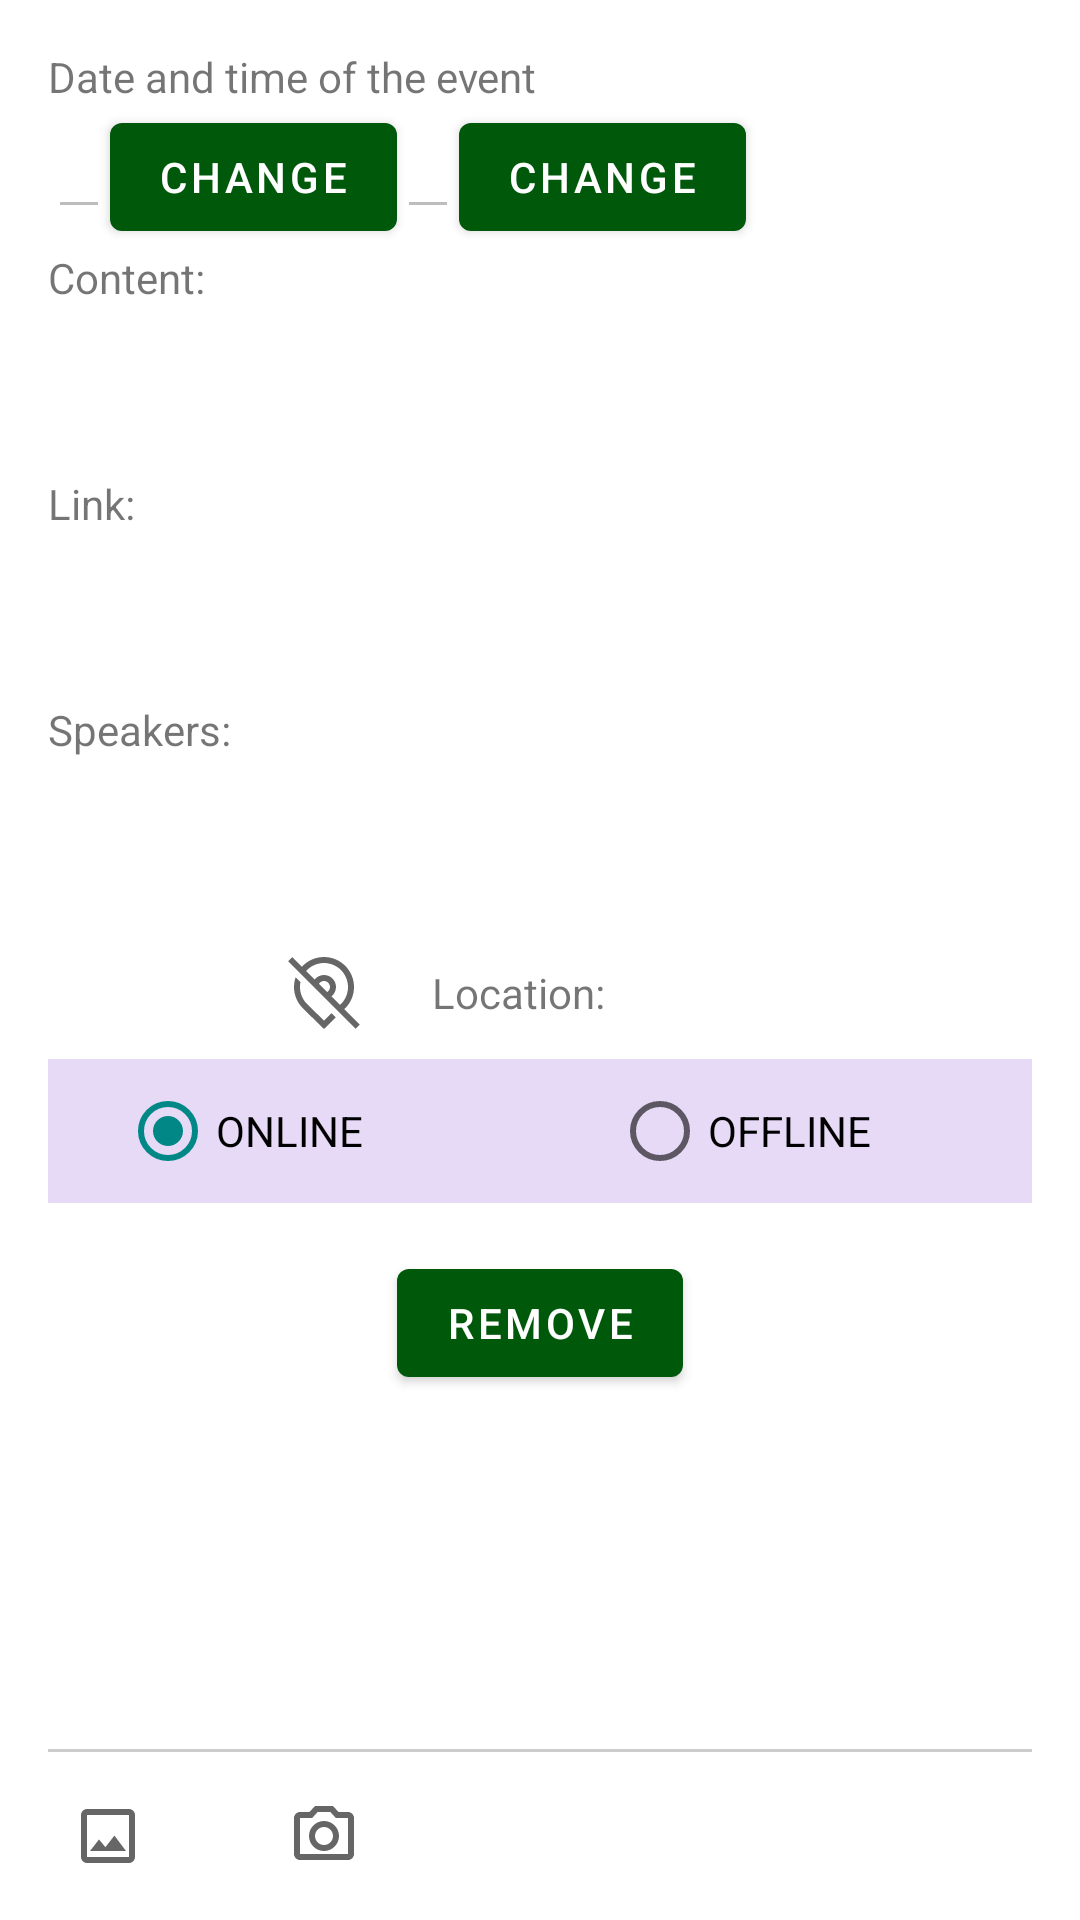

Where icons sit on this 1080×1920 app screen, as [left=x1, top=y1, right=x2, bottom=y2]:
Select photo: [left=81, top=1809, right=135, bottom=1863]
Take photo: [left=294, top=1806, right=354, bottom=1860]
